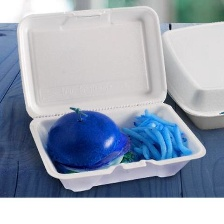foam_box: (10, 2, 212, 197), (153, 13, 224, 135)
